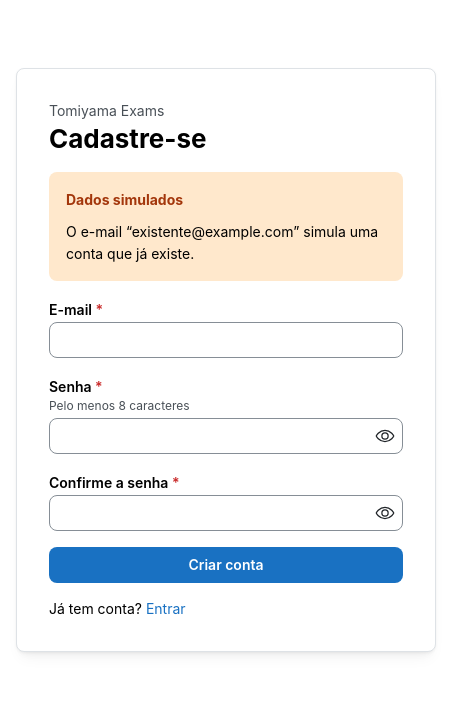
Test: cadastro de responsável (§ 6.1): passo do e-mail e senha › valida {"password":"","confirmation":""} no cliente
Type "mae@example.com" into the field labelled "E-mail *".
click(226, 340); type("mae@example.com")  # box left=49, top=322, right=403, bottom=358
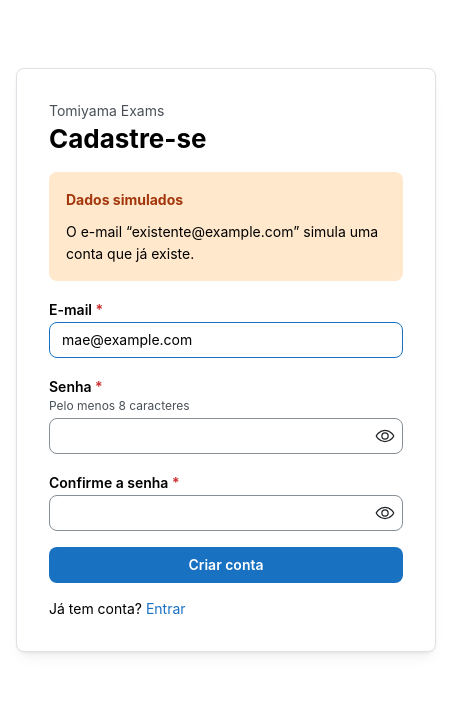
Clear the password field labelled "Senha *" at (226, 436), box left=50, top=419, right=402, bottom=453
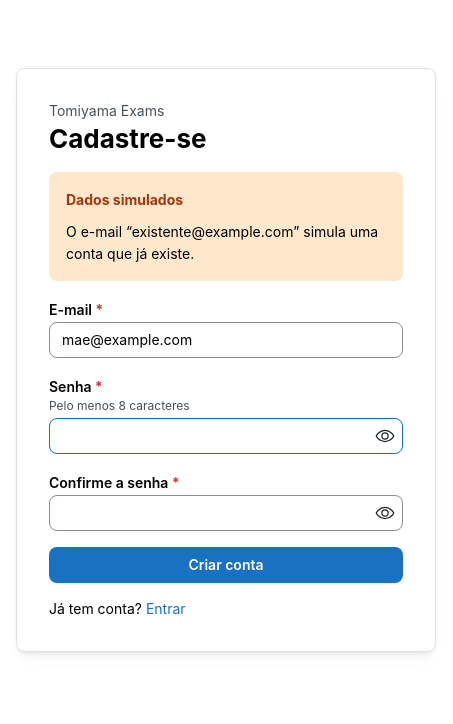
Clear the password field labelled "Confirme a senha *" at (226, 513), box left=50, top=496, right=402, bottom=530
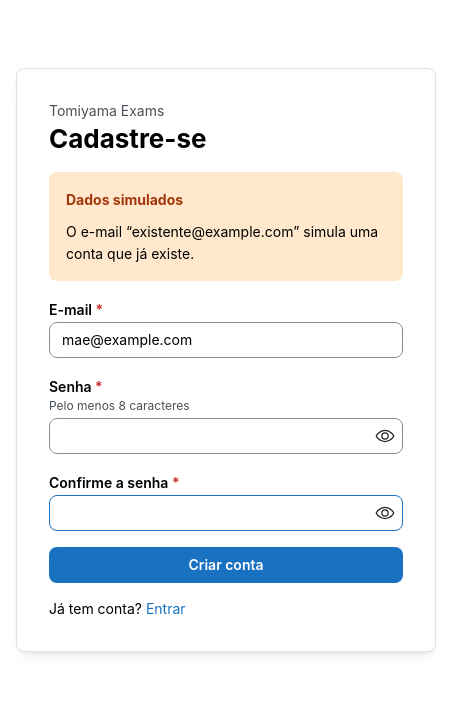
Click the button "Criar conta".
click(226, 565)  # box left=49, top=547, right=403, bottom=583
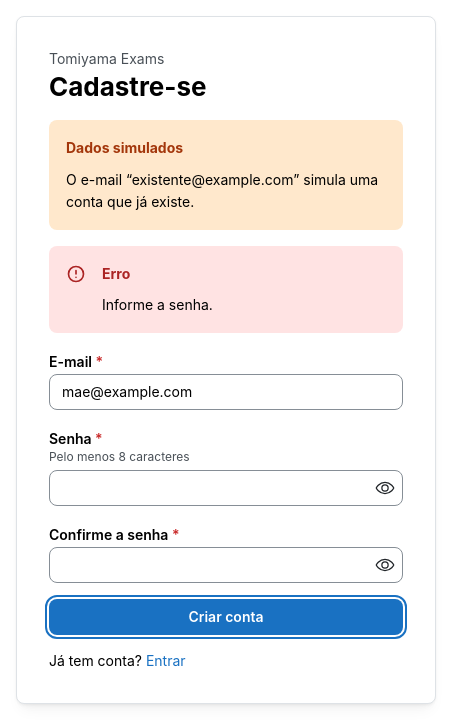
Expected: the heading "Cadastre-se" is shown, left=49, top=71, right=207, bottom=102
Expected: the message shows "Informe a senha.", left=102, top=296, right=213, bottom=313
